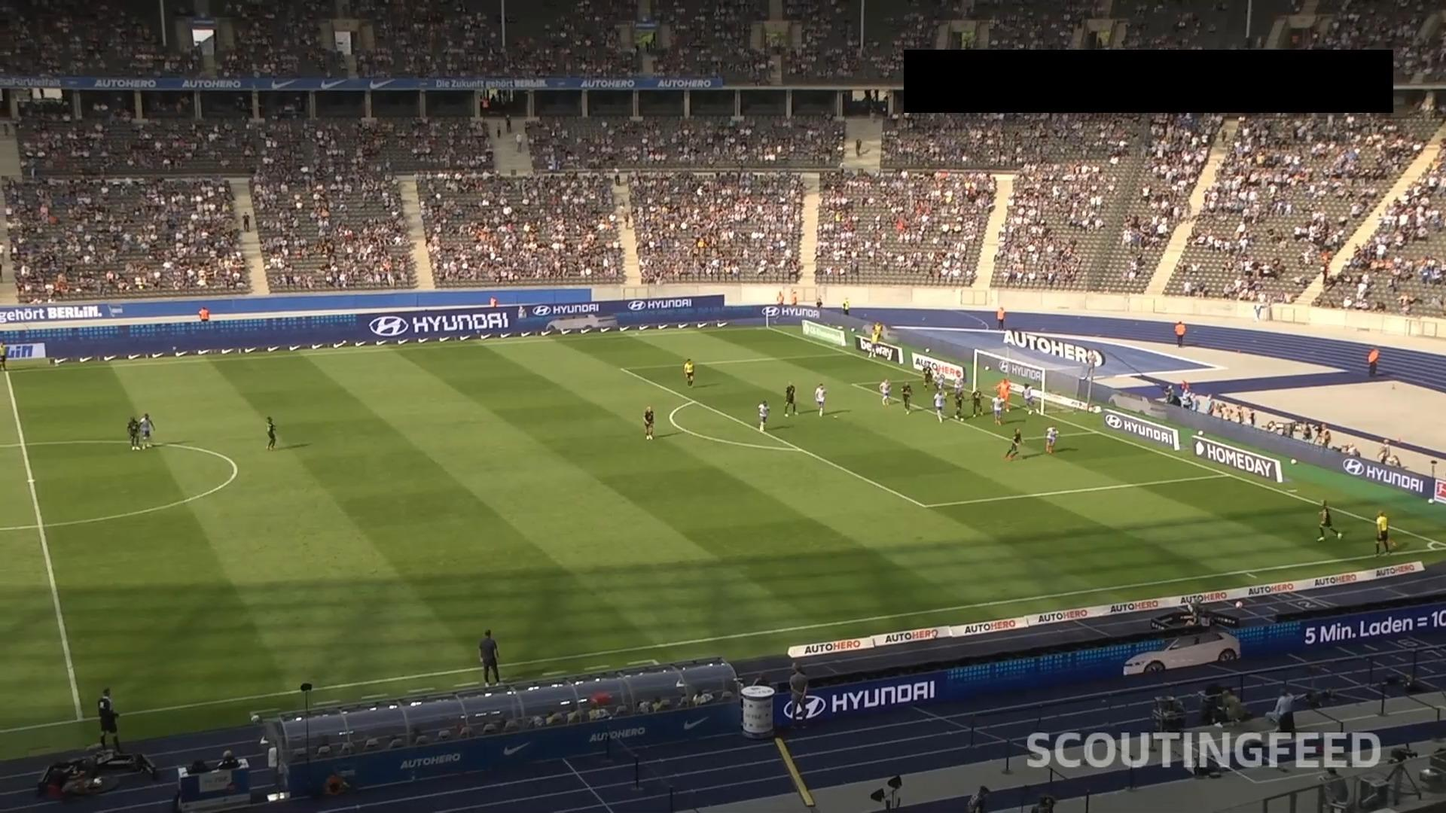goalkeeper: (993, 376, 1013, 414)
player: (1313, 496, 1343, 548), (1002, 426, 1027, 465), (1020, 382, 1043, 416), (781, 382, 800, 420), (950, 386, 968, 425), (754, 399, 772, 433), (1044, 424, 1062, 457), (139, 412, 154, 450), (922, 363, 940, 393), (901, 383, 916, 417), (127, 414, 140, 453), (264, 414, 277, 451), (642, 406, 655, 442), (991, 392, 1004, 426), (814, 382, 827, 416), (934, 391, 948, 422), (930, 376, 948, 400), (972, 387, 984, 420), (880, 377, 893, 406), (952, 375, 965, 398)
referee: (683, 357, 695, 391), (0, 341, 8, 373)
